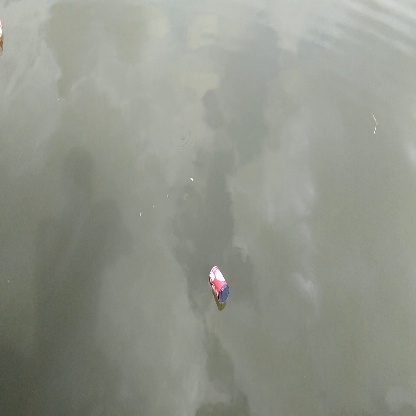bottle: (203, 260, 234, 307)
